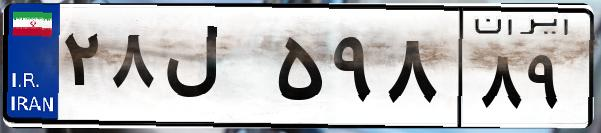2: (57, 26, 110, 100)
5: (270, 28, 330, 110)
8: (385, 28, 445, 110), (475, 38, 525, 113), (110, 28, 158, 98)
9: (330, 28, 385, 110), (525, 38, 570, 115)
ل: (158, 20, 270, 120)
